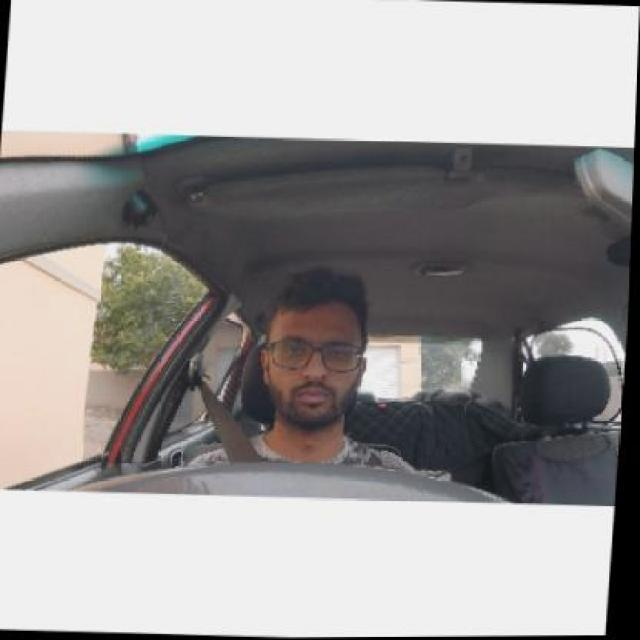person: (241, 259, 381, 440)
